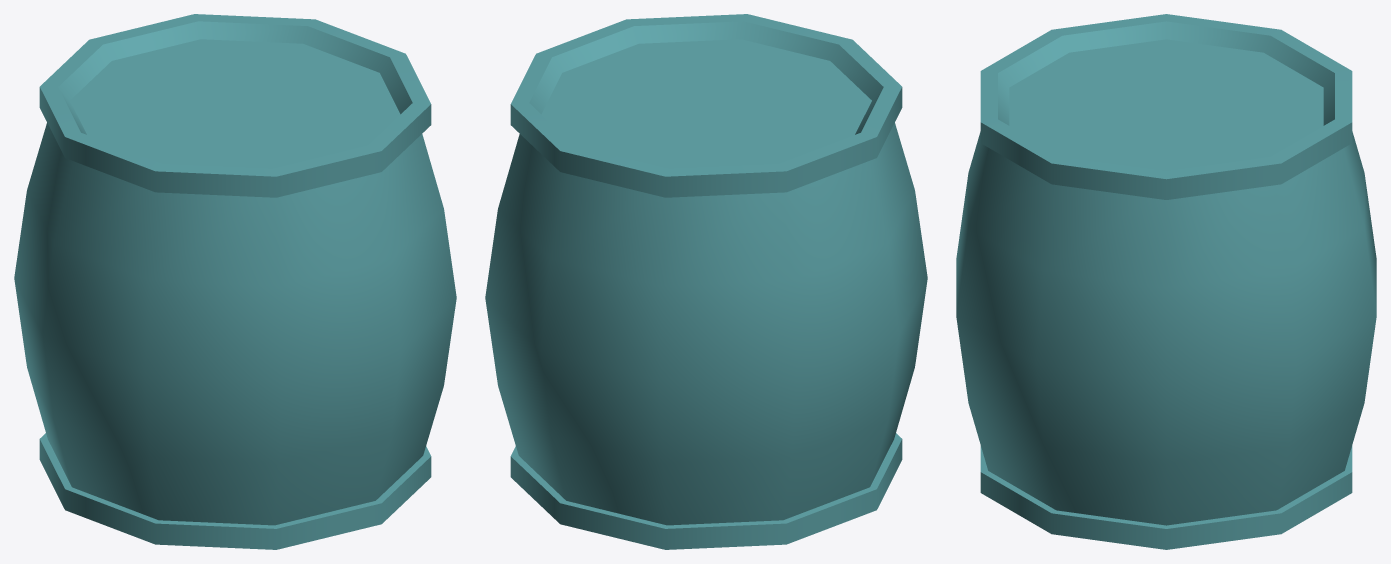
Rendered from taru.fbx.
3 renders of one model, left to right at view 1: azimuth 30°, elevation 25°; view 2: azimuth 150°, elevation 25°; view 3: azimuth 270°, elevation 25°, orthographic.
Visible parts, largest first — view 1: polySurface3, polySurface4, polySurface1; view 2: polySurface3, polySurface4, polySurface1; view 3: polySurface3, polySurface4, polySurface1.
Boxes of the visible parts, x1=… form: polySurface3: x1=14, y1=122, x2=456, y2=525; polySurface4: x1=39, y1=14, x2=431, y2=197; polySurface1: x1=39, y1=433, x2=431, y2=549; polySurface3: x1=485, y1=122, x2=927, y2=525; polySurface4: x1=510, y1=14, x2=902, y2=197; polySurface1: x1=510, y1=433, x2=902, y2=549; polySurface3: x1=956, y1=131, x2=1376, y2=525; polySurface4: x1=980, y1=14, x2=1352, y2=199; polySurface1: x1=980, y1=446, x2=1352, y2=549.
Bounding box in the file's own units: 0.7841 × 0.7272 × 0.7458.
